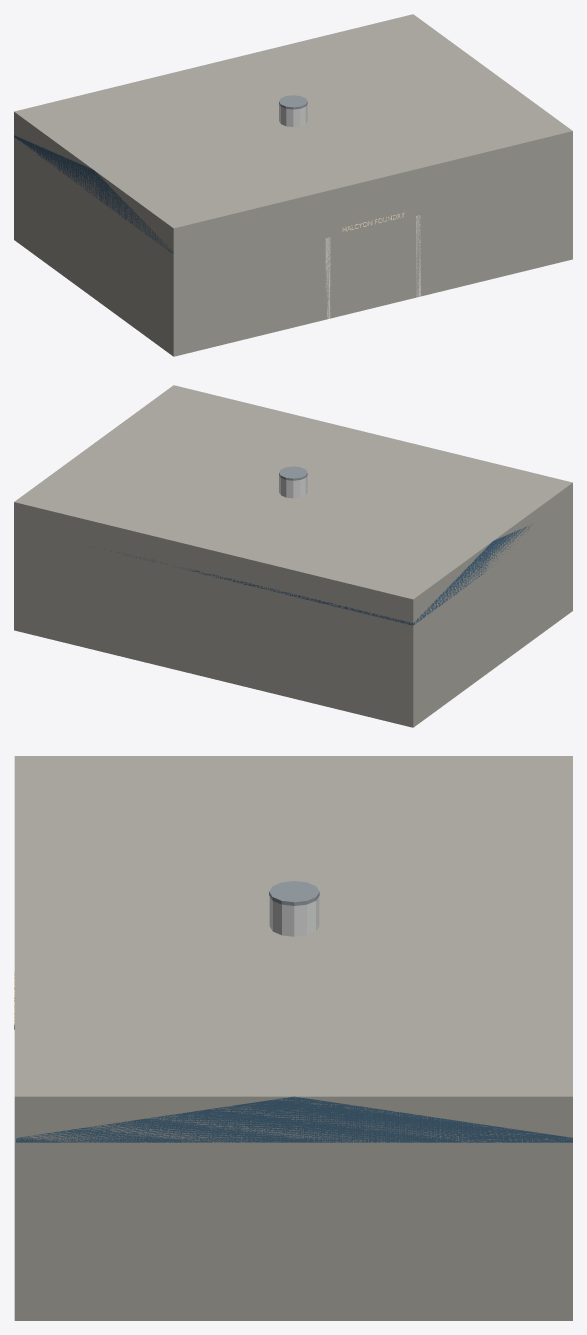
Rendered from BLD_Factory.fbx.
3 renders of one model, top to bottom at view 1: azimuth 30°, elevation 25°; view 2: azimuth 150°, elevation 25°; view 3: azimuth 270°, elevation 25°, orthographic. The views are drawn at different scales.
Visible parts, largest first — view 1: BLD_Factory__COL_Main, BLD_Factory__BODY; view 2: BLD_Factory__COL_Main, BLD_Factory__BODY; view 3: BLD_Factory__COL_Main, BLD_Factory__BODY.
Part boxes in pixels (x1,y1,x2,y2): BLD_Factory__COL_Main: (14,14,572,356); BLD_Factory__BODY: (14,95,420,318); BLD_Factory__COL_Main: (14,385,572,727); BLD_Factory__BODY: (95,466,531,625); BLD_Factory__COL_Main: (14,756,572,1320); BLD_Factory__BODY: (16,881,572,1142).
Size of the model in its own units: 38.9 by 13.8 by 26.99.
